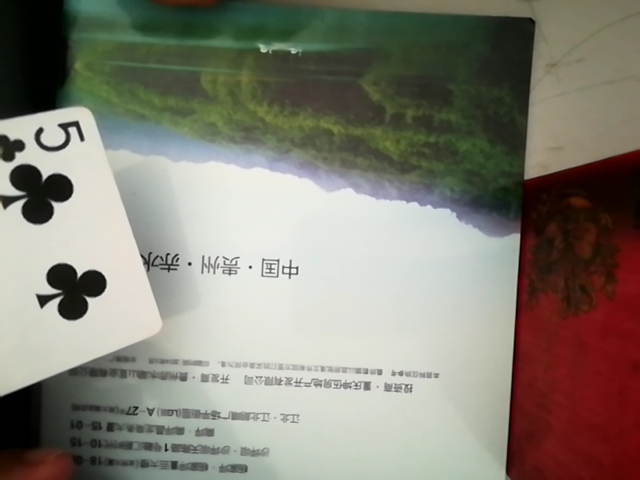mh 5: (0, 89, 153, 432)
